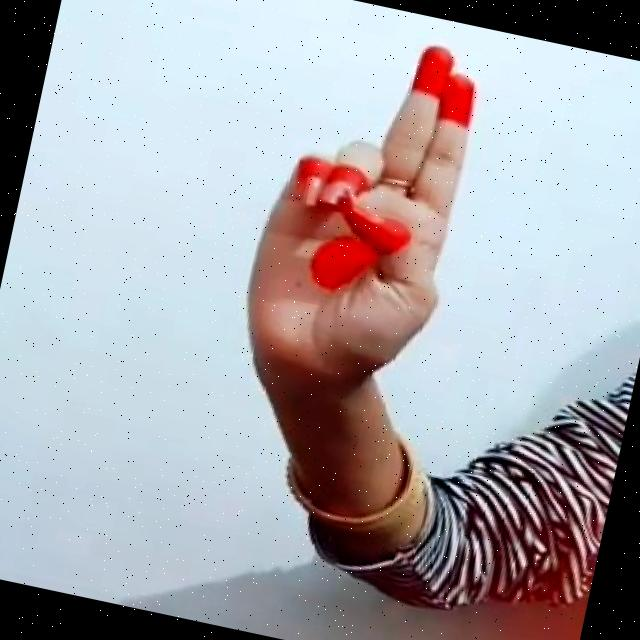Ardhapataka: (192, 10, 548, 411)
bangle: (242, 406, 472, 559)
